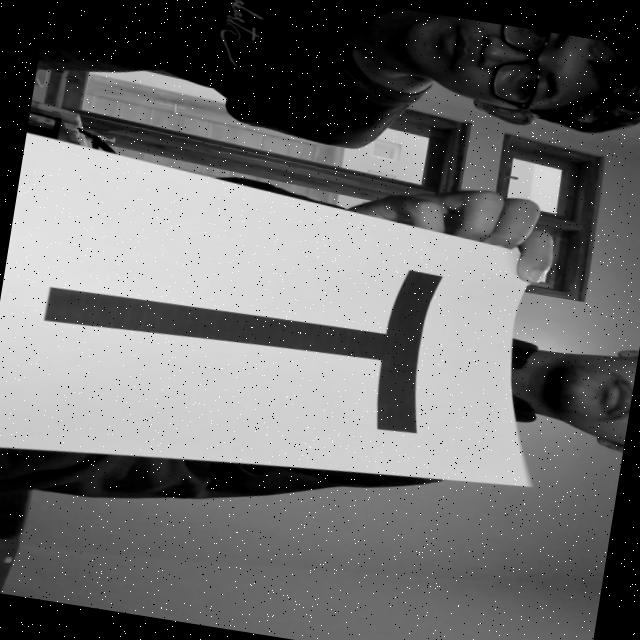t: (22, 206, 473, 470)
